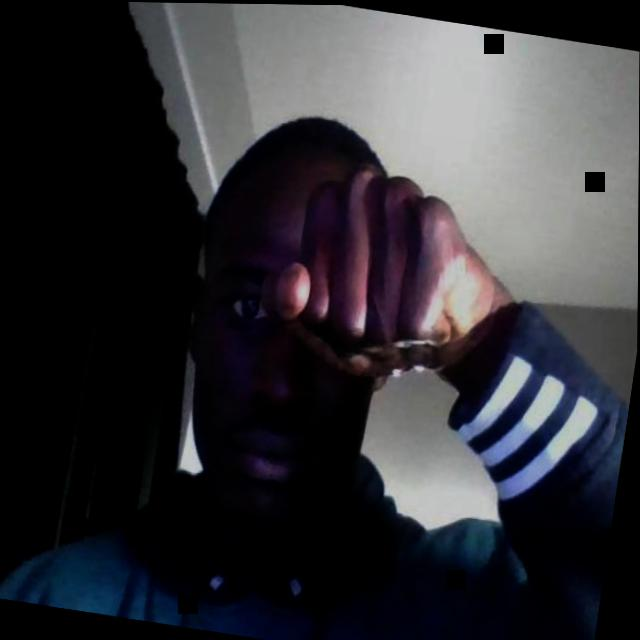NO-Mask: (164, 204, 394, 555)
